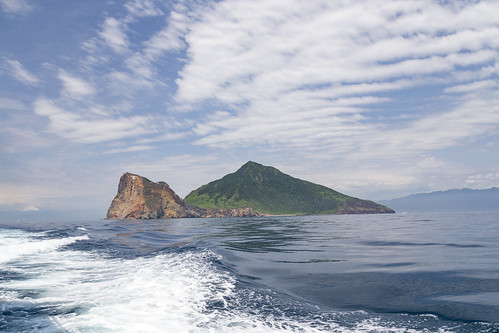turtleIslandLeft: (109, 155, 400, 216)
